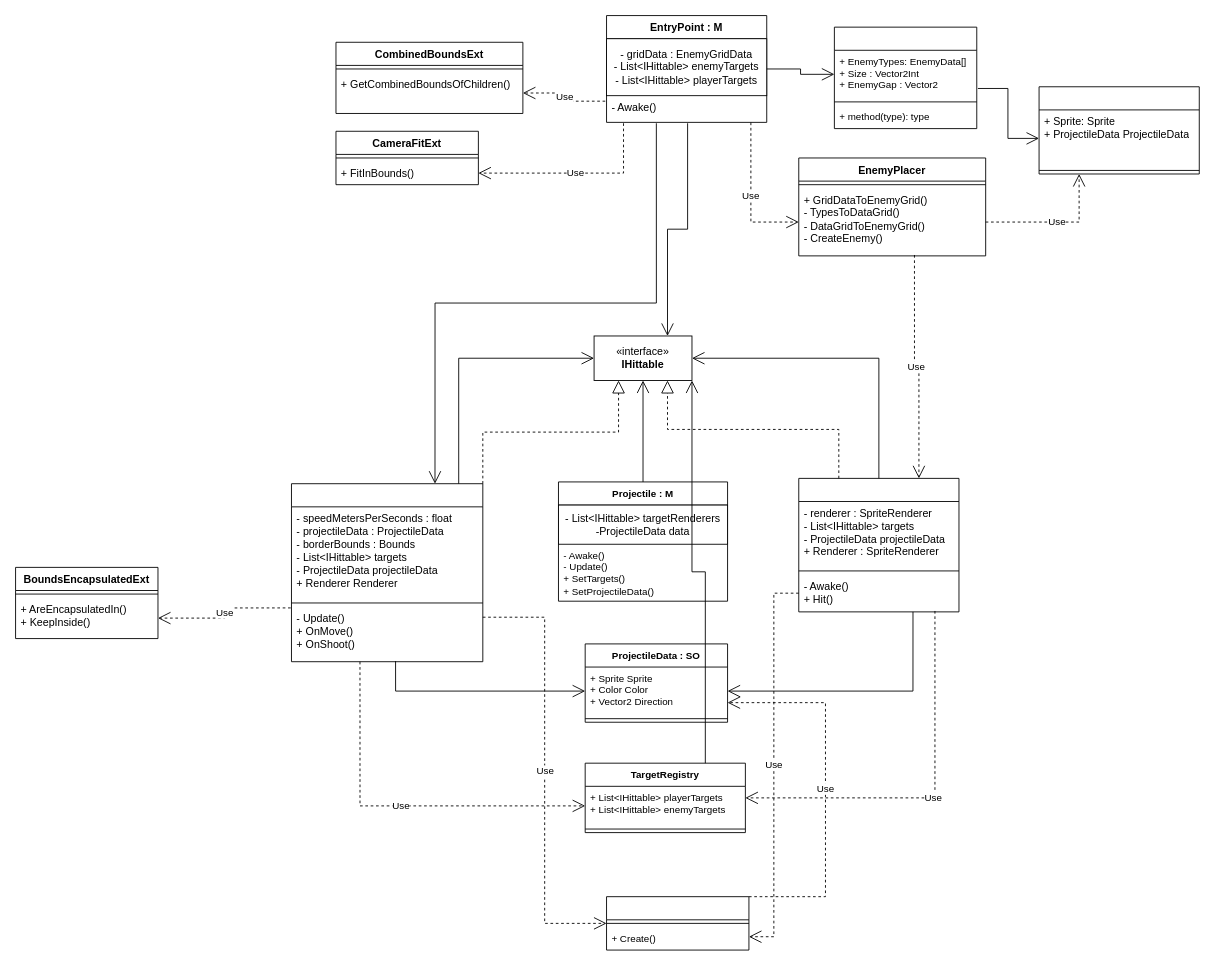
The diagram is 1215 pixels wide and 968 high, and some of its shapes have lost their labels. Here are the shapes that lost their labels. From the top down, the box of each, then its label:
(833, 26, 977, 129): EnemyGridData : SO
(1038, 86, 1199, 174): EnemyData : SO
(798, 477, 959, 612): Enemy : M
(291, 483, 483, 662): Player : M
(606, 896, 749, 950): ProjectileCreator
